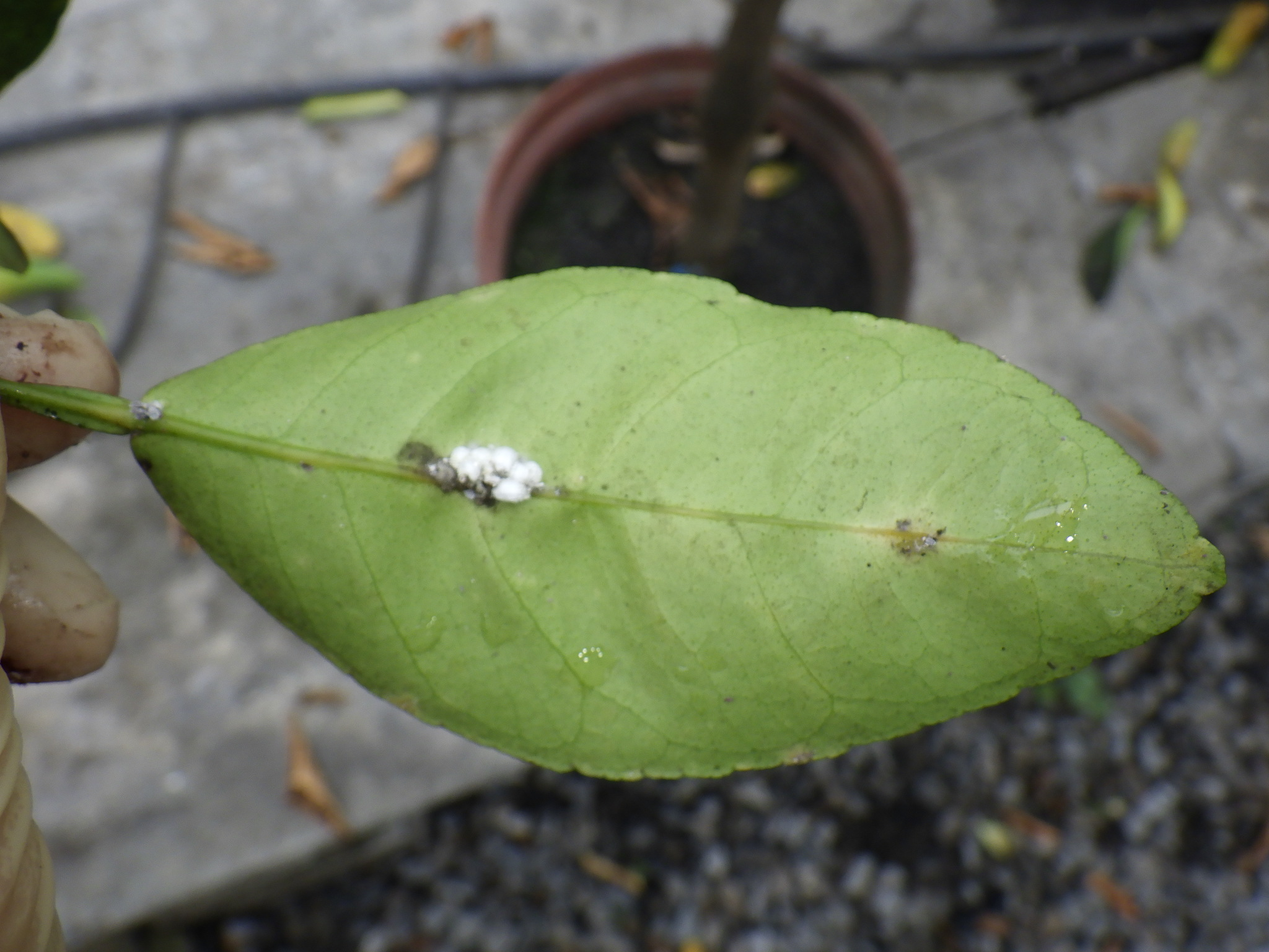Scale_Insect: (426, 446, 543, 503)
